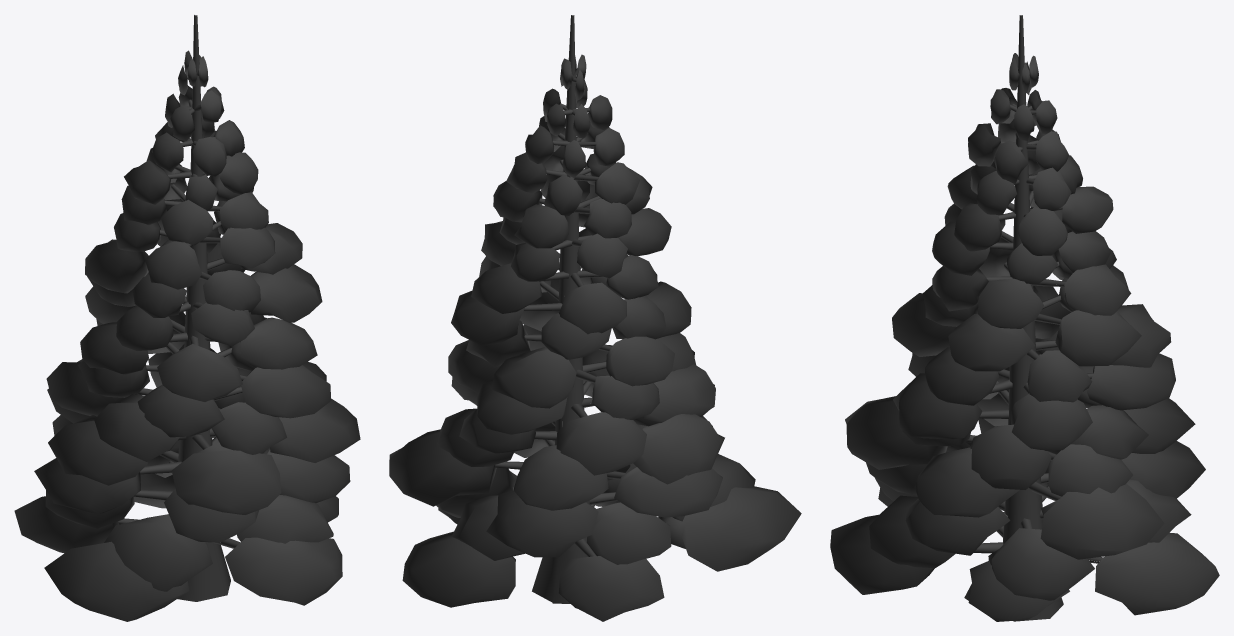
The model's file is taiga_fir.glb.
3 renders of one model, left to right at view 1: azimuth 30°, elevation 25°; view 2: azimuth 150°, elevation 25°; view 3: azimuth 270°, elevation 25°, orthographic. The views are drawn at different scales.
Visible parts, largest first — view 1: foliage, bark; view 2: foliage, bark; view 3: foliage, bark.
Boxes of the visible parts, <box> form: foliage: <box>14,50,360,621</box>; bark: <box>118,15,246,601</box>; foliage: <box>389,54,801,621</box>; bark: <box>495,15,666,603</box>; foliage: <box>830,53,1219,621</box>; bark: <box>965,15,1103,621</box>.
Bounding box in the file's own units: 5.36 × 9.2 × 5.5.
Materials: 1 (1 with a texture image).
